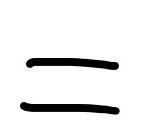eqv: (15, 53, 125, 116)
